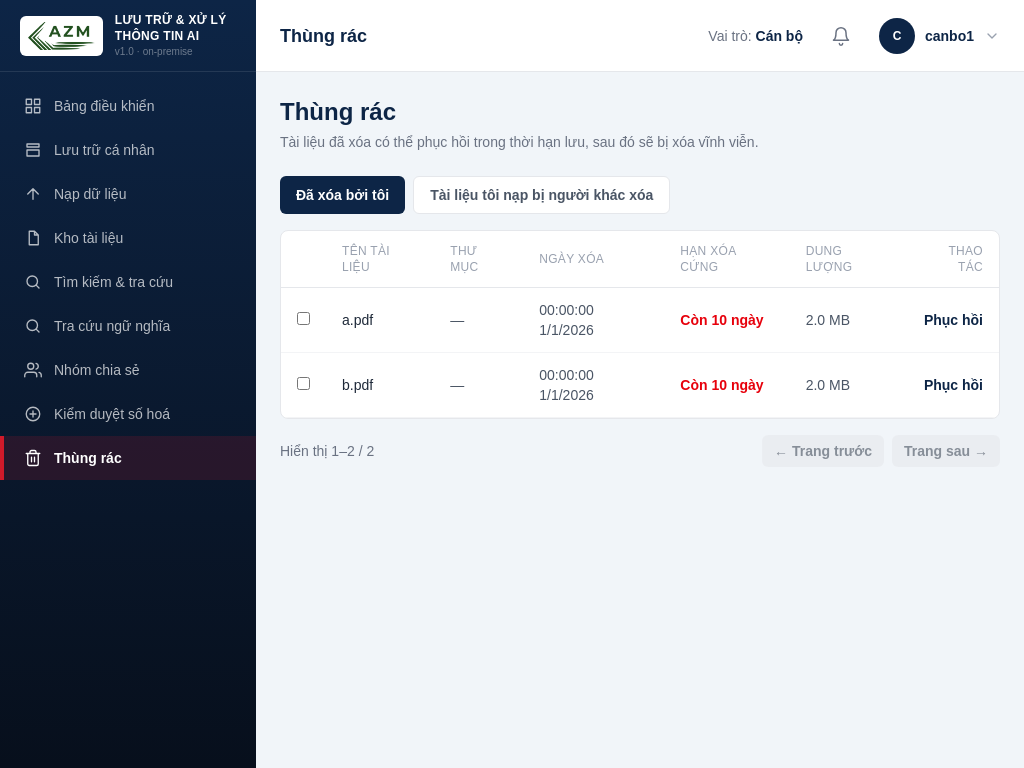
Test: TrashPage › several files stopped on NAME_CONFLICT (AC-23) › ticked + "Đổi tên": ONE restore-batch with AUTO_RENAME for every conflicting file
Expected: the text "a.pdf" is shown, x1=326 y1=288 x2=434 y2=352
Click the checkbox named "Chọn a.pdf": x=304, y=318 x1=297 y1=312 x2=310 y2=325
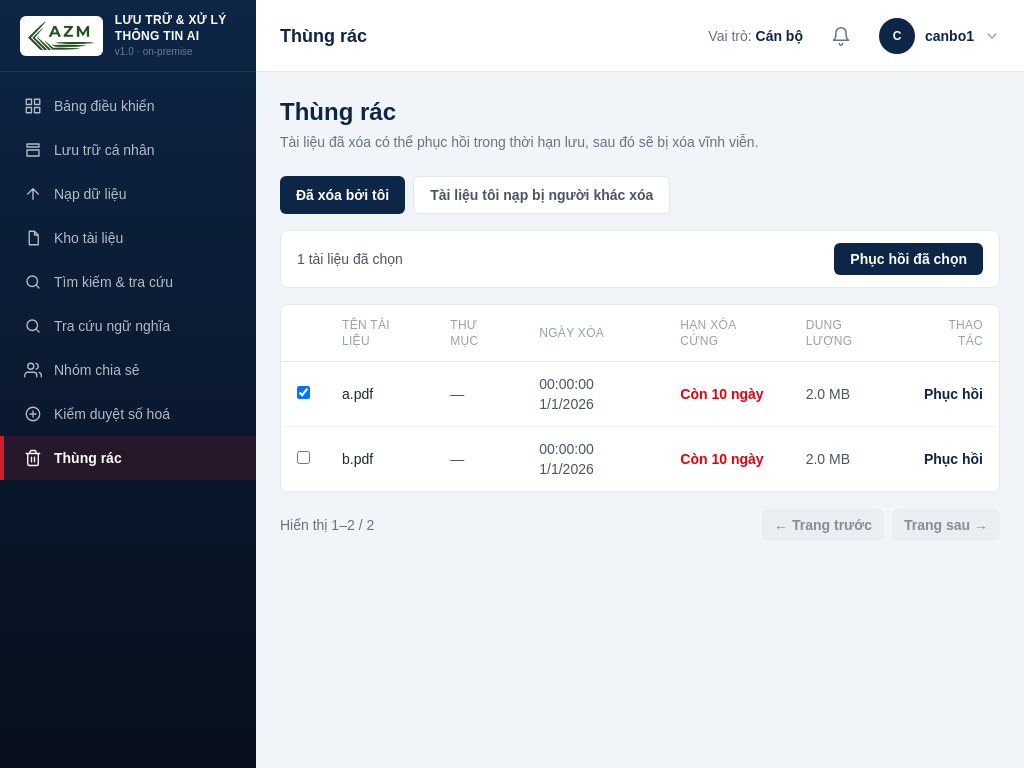
Click the checkbox named "Chọn b.pdf": x=304, y=458 x1=297 y1=451 x2=310 y2=464
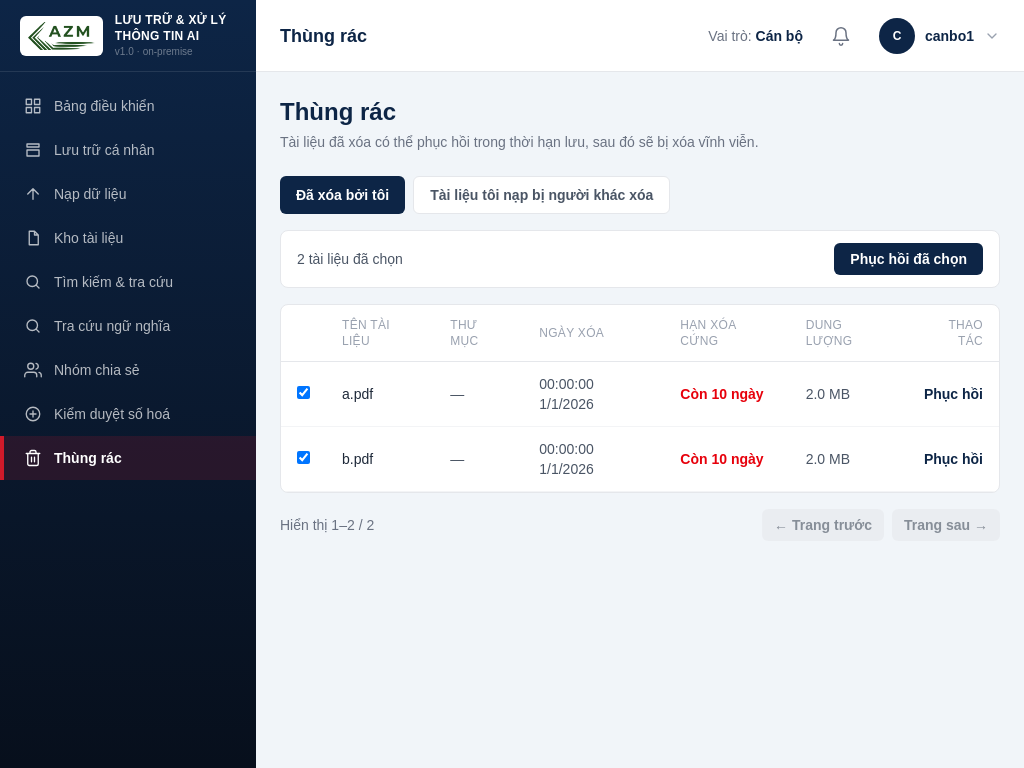
Click the button "Phục hồi đã chọn": x=909, y=259 x1=834 y1=243 x2=983 y2=275
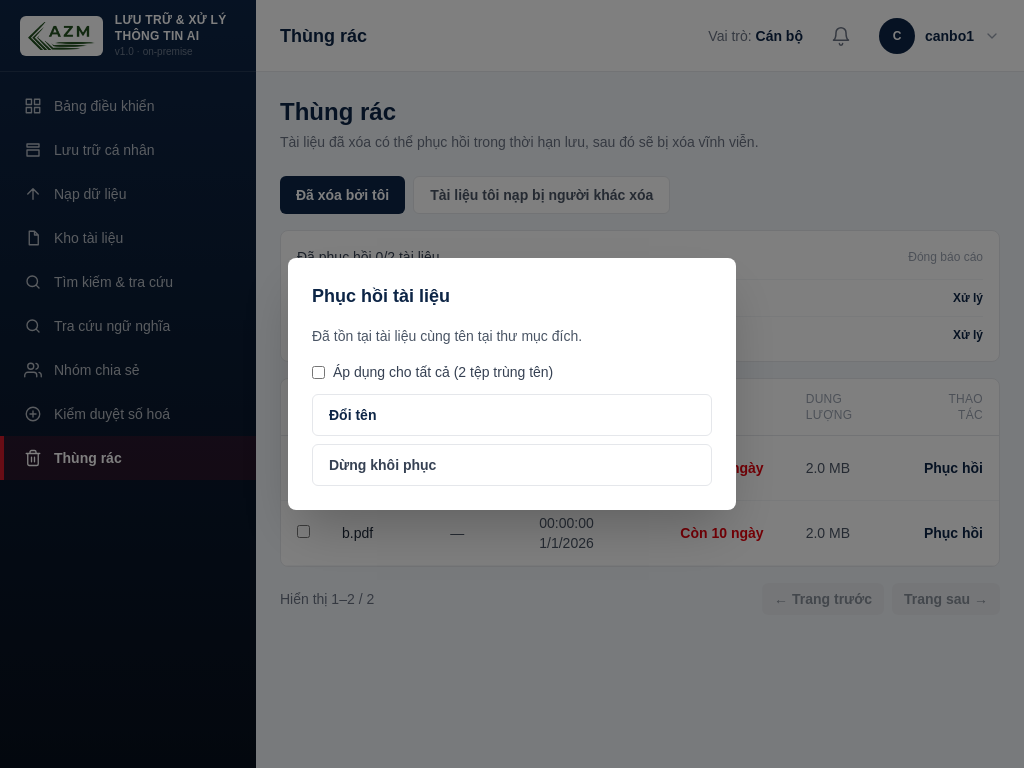
Result: the checkbox labelled "Áp dụng cho tất cả (2 tệp trùng tên)" is shown
Click the checkbox labelled "Áp dụng cho tất cả (2 tệp trùng tên)": x=318, y=372 x1=312 y1=366 x2=325 y2=378
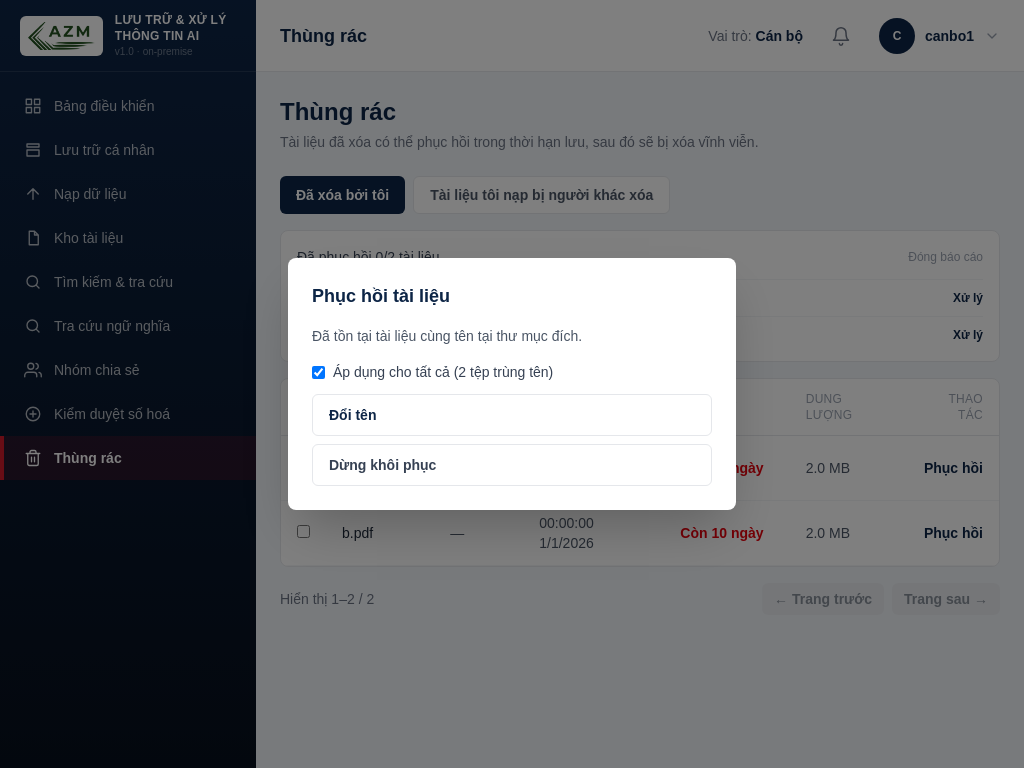
Click the button "Đổi tên": x=353, y=415 x1=312 y1=394 x2=712 y2=436
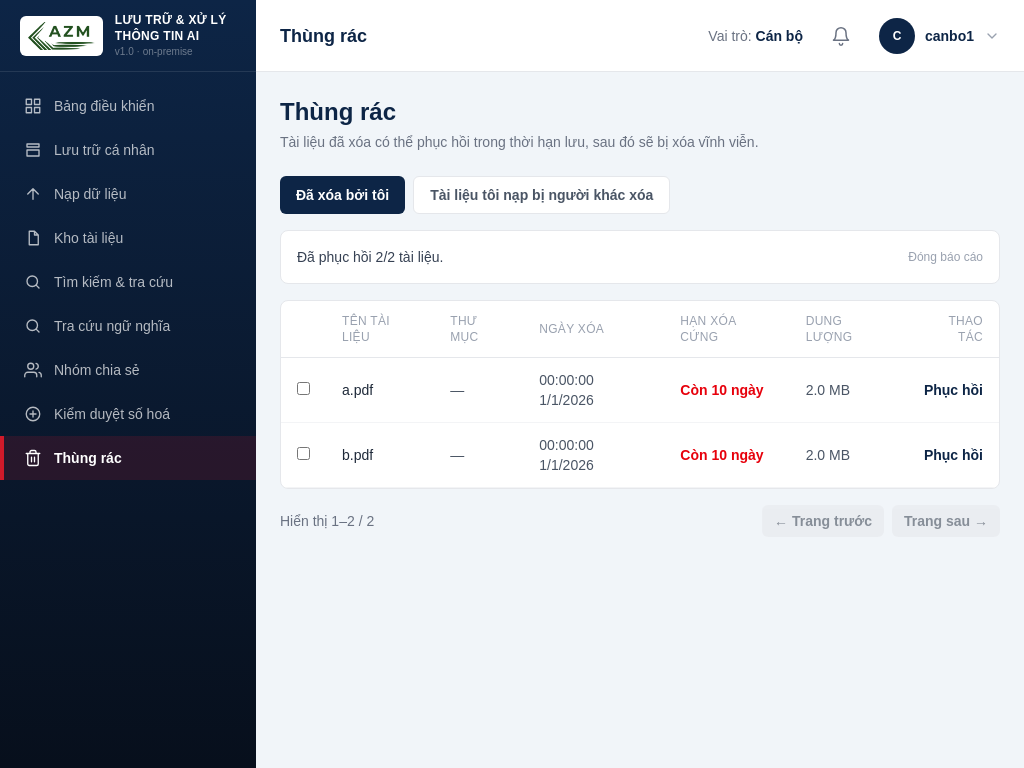
Result: the button "Dừng khôi phục" is gone
